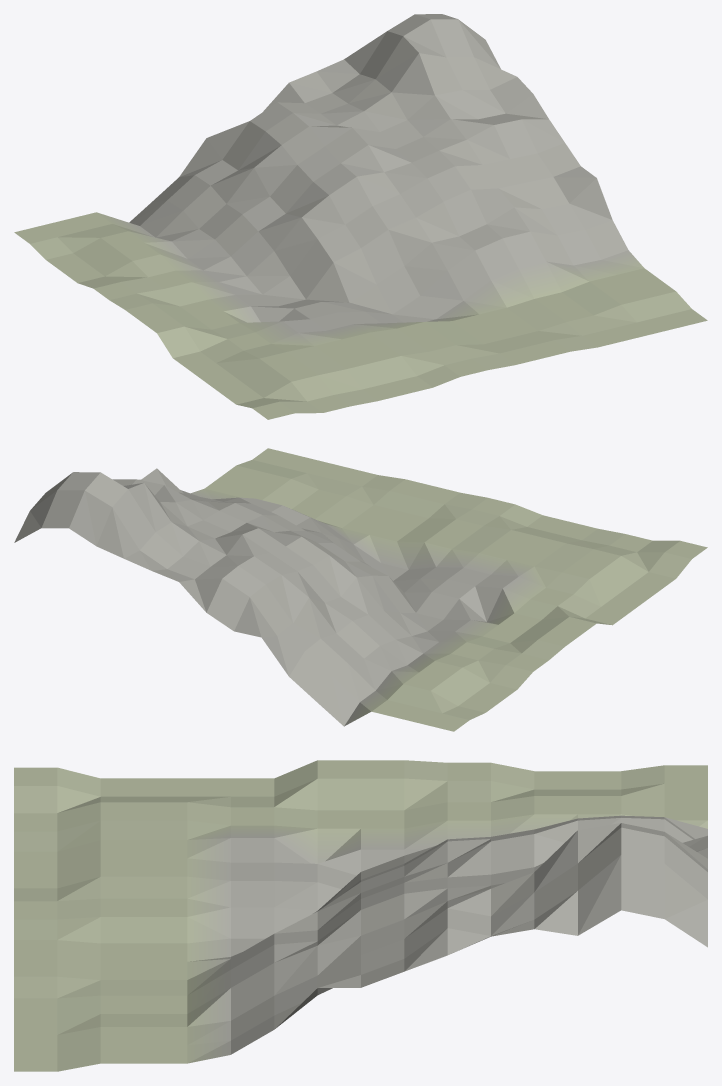
3 views of the same model, one above another, from view 1: azimuth 30°, elevation 25°; view 2: azimuth 150°, elevation 25°; view 3: azimuth 270°, elevation 25° (orthographic). The views are drawn at different scales.
Size of the model in its own units: 32 by 11.39 by 32.
